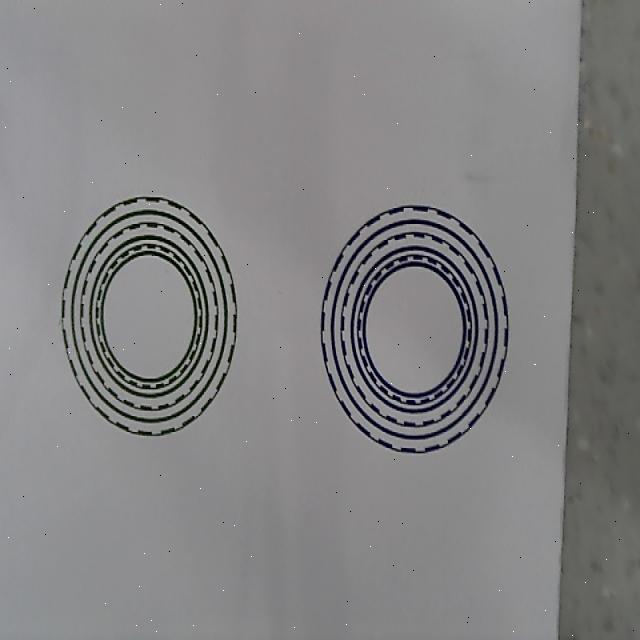b: (320, 203, 509, 454)
g: (61, 196, 238, 439)
